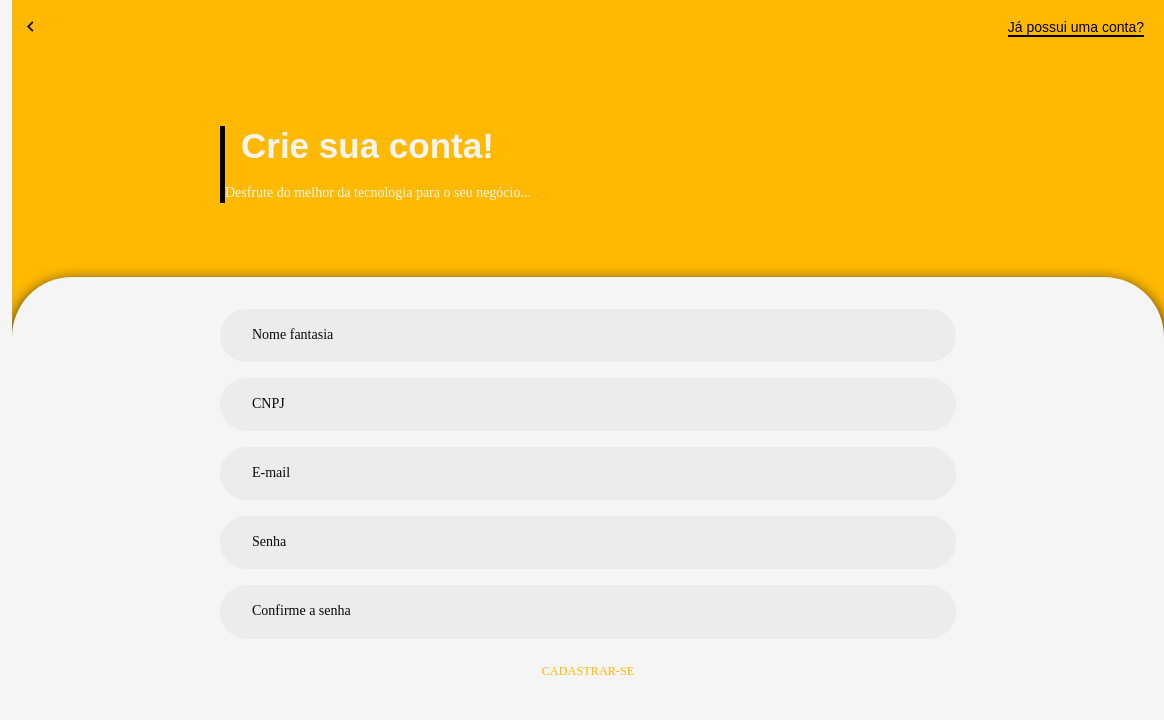
Test: Sign Up page › should show error <MESSSAGE> for each <FIELD>
What coordinates should you click on to do the following:
click the button "Cadastrar-se"
I would click on:
 (588, 671)
Its box is [534, 655, 642, 688].
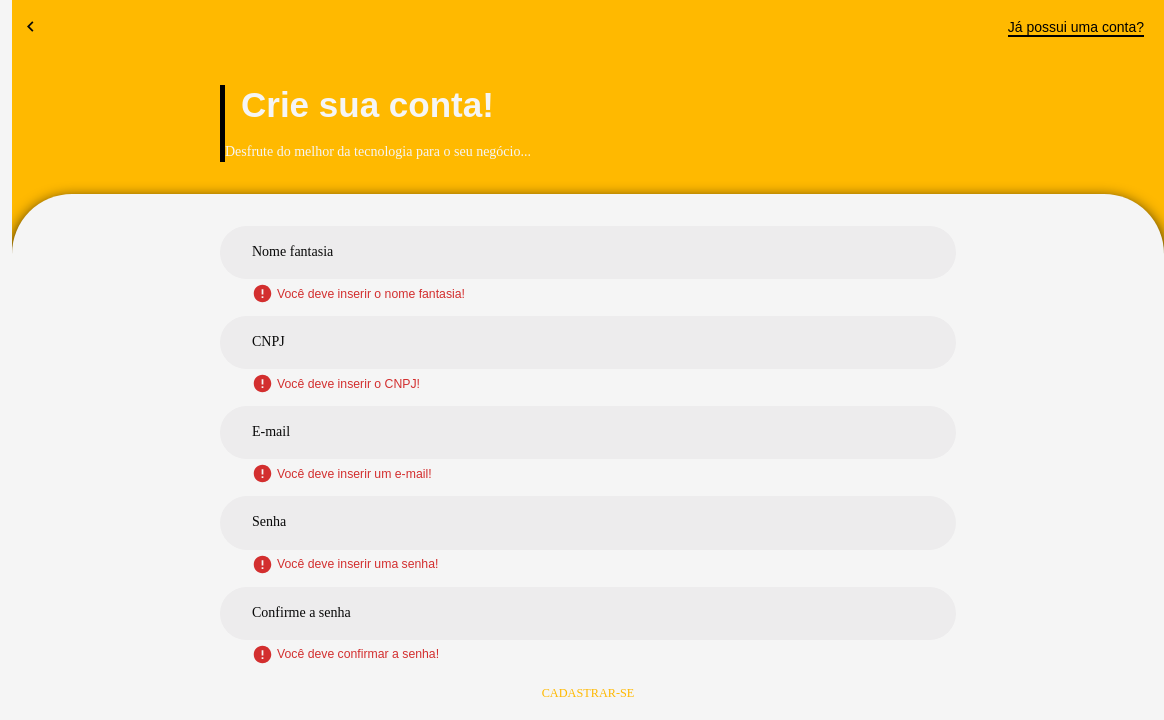
Expected: the text with test id "password-error-message" reads "Você deve inserir uma senha!", [277, 557, 438, 571]
